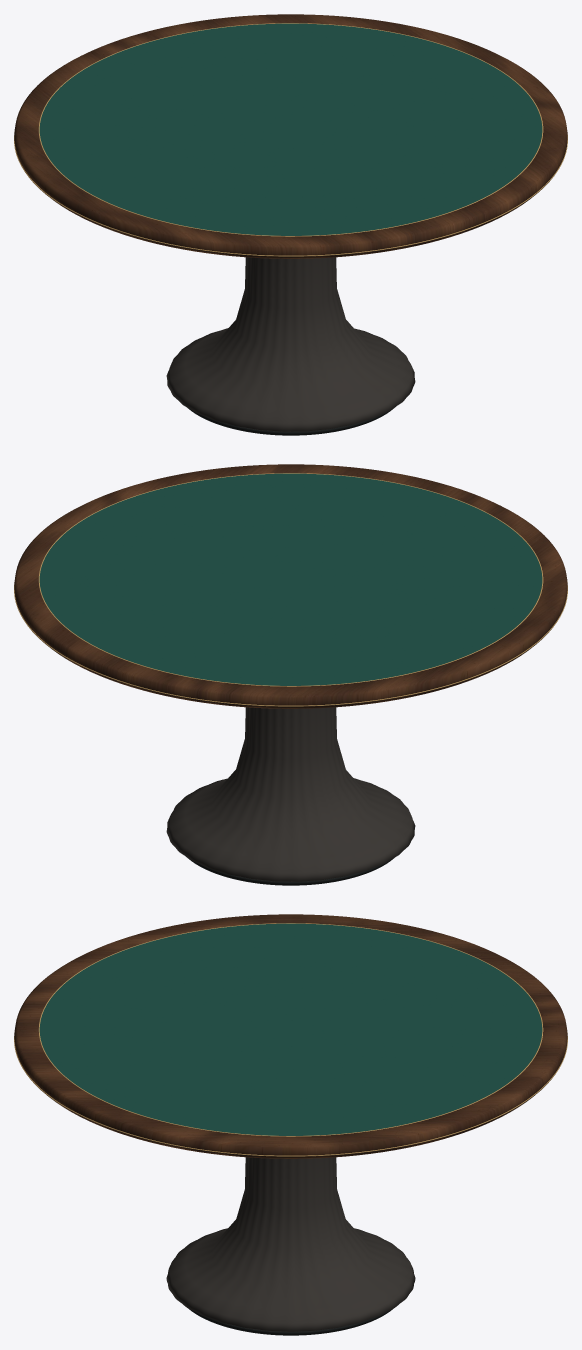
Rendered from table-premium-felt-v1.glb.
The picture shows the model from 3 angles, top to bottom: view 1: azimuth 30°, elevation 25°; view 2: azimuth 150°, elevation 25°; view 3: azimuth 270°, elevation 25°; orthographic projection.
Parts seen in each view (by area): view 1: Table_Felt, Table_Pedestal, Table_Walnut_Rim, Table_Brass_Inlay, Table_Brass_Edge, Table_Foot_Pad; view 2: Table_Felt, Table_Pedestal, Table_Walnut_Rim, Table_Brass_Inlay, Table_Brass_Edge, Table_Foot_Pad; view 3: Table_Felt, Table_Pedestal, Table_Walnut_Rim, Table_Brass_Inlay, Table_Brass_Edge, Table_Foot_Pad.
Boxes of the visible parts, left/top/right/bottom form: Table_Felt: left=39, top=23, right=542, bottom=235; Table_Pedestal: left=166, top=257, right=415, bottom=431; Table_Walnut_Rim: left=14, top=14, right=567, bottom=258; Table_Brass_Inlay: left=38, top=23, right=543, bottom=236; Table_Brass_Edge: left=14, top=132, right=567, bottom=256; Table_Foot_Pad: left=188, top=407, right=394, bottom=435; Table_Felt: left=39, top=473, right=542, bottom=685; Table_Pedestal: left=166, top=707, right=415, bottom=881; Table_Walnut_Rim: left=14, top=464, right=567, bottom=708; Table_Brass_Inlay: left=38, top=473, right=543, bottom=686; Table_Brass_Edge: left=14, top=582, right=567, bottom=706; Table_Foot_Pad: left=187, top=857, right=393, bottom=885; Table_Felt: left=39, top=923, right=542, bottom=1135; Table_Pedestal: left=166, top=1157, right=415, bottom=1331; Table_Walnut_Rim: left=14, top=914, right=567, bottom=1158; Table_Brass_Inlay: left=38, top=923, right=543, bottom=1136; Table_Brass_Edge: left=14, top=1032, right=567, bottom=1156; Table_Foot_Pad: left=189, top=1309, right=392, bottom=1335.
Size of the model in its own units: 1.44 by 0.7393 by 1.44.
Materials: 5 (2 with a texture image).
